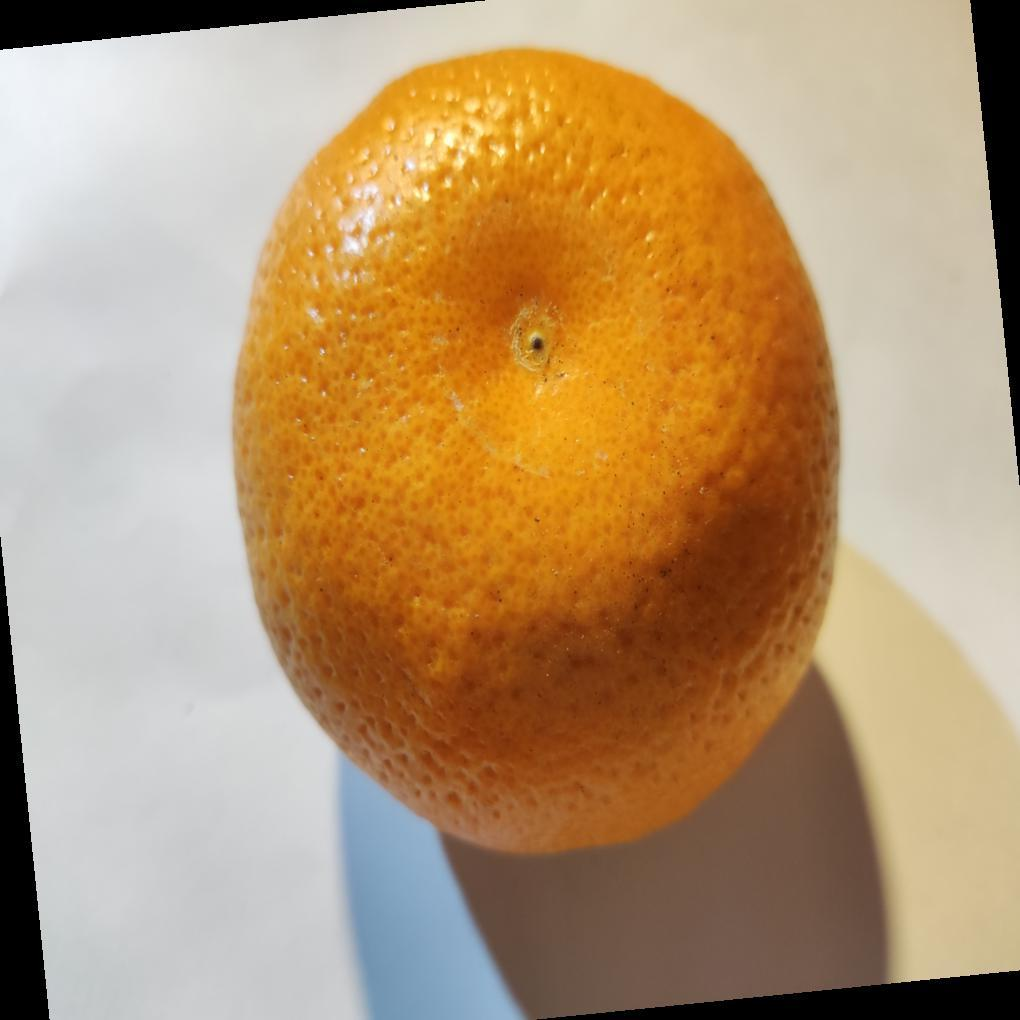FreshGuava: (229, 46, 843, 861)
